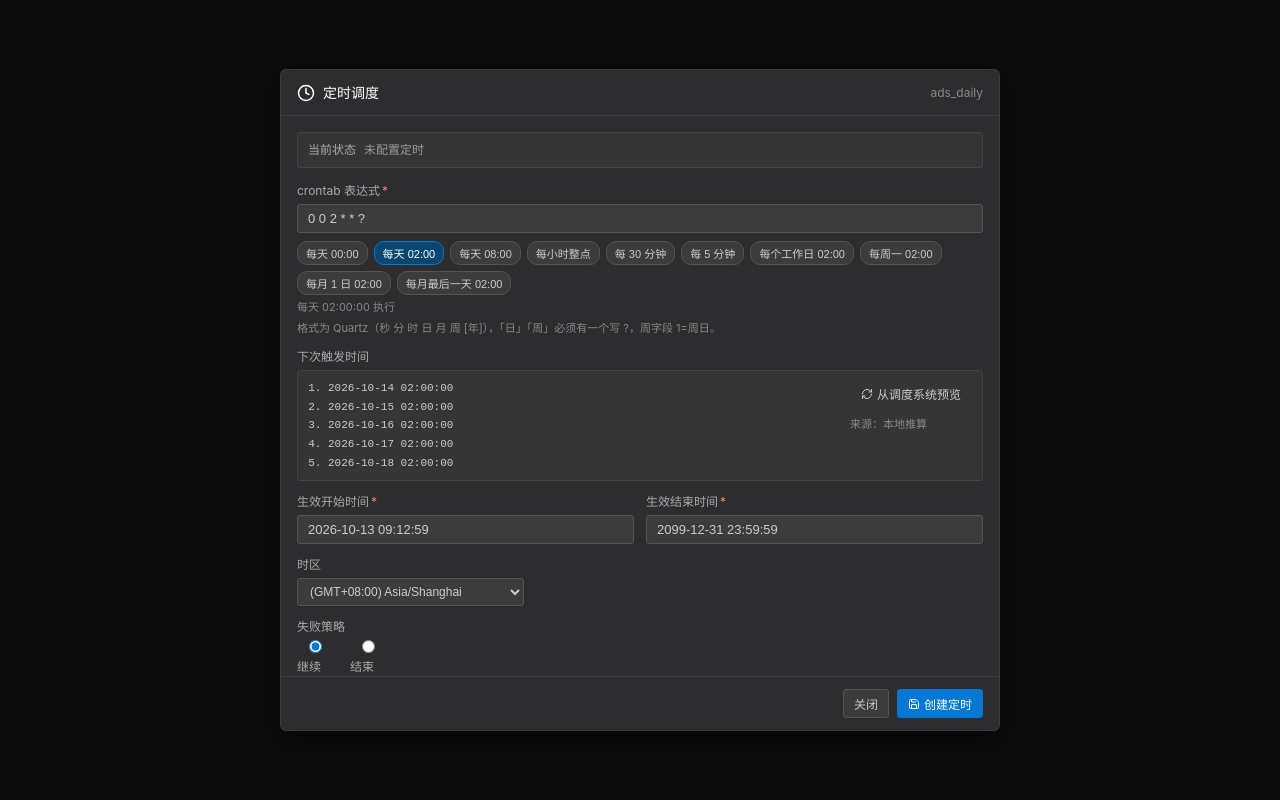
it: crontab 与生效区间的闸门 › 点击预设会替换 crontab 输入
Expected: the text "未配置定时" is shown, [364,141,424,159]
Click the button "每月 1 日 02:00": point(344, 283) [297,271,391,295]
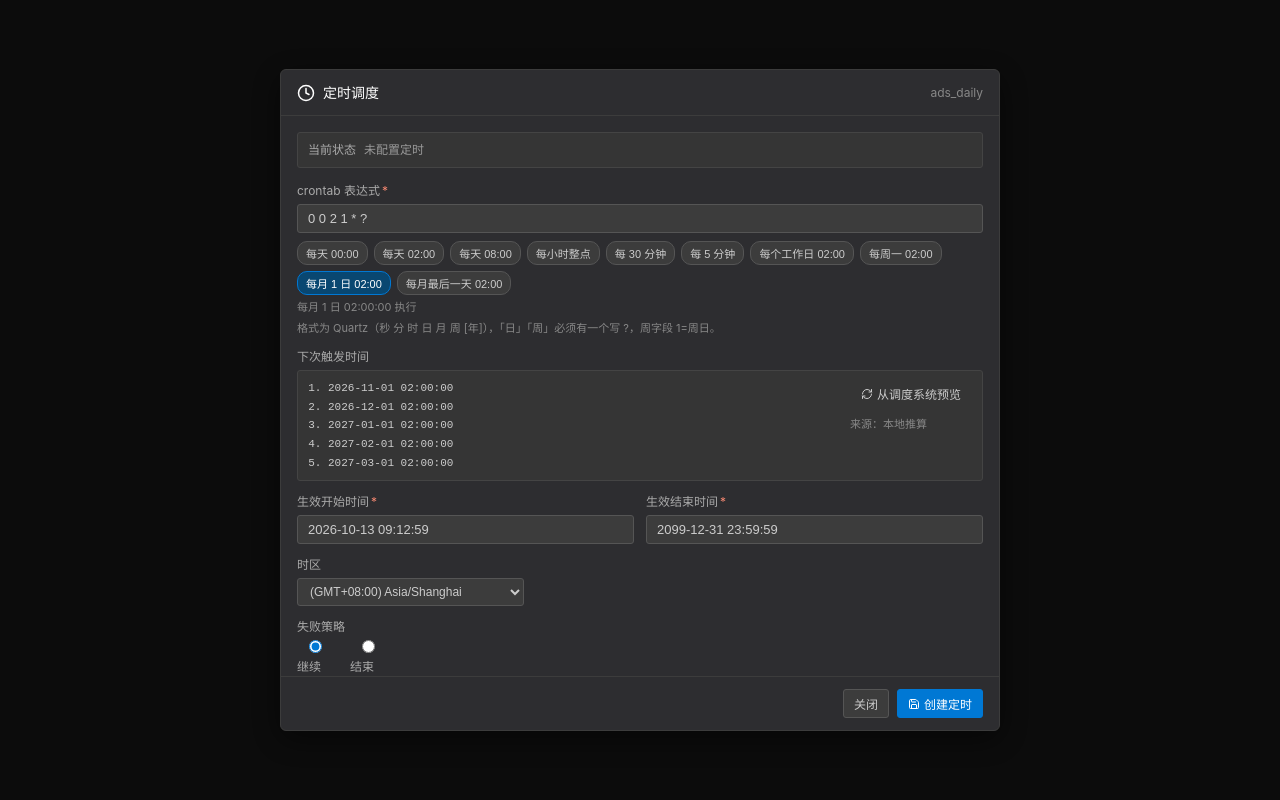
Expected: the field with test id "schedule-crontab" holds "0 0 2 1 * ?", [297,204,983,233]
Expected: the text with test id "cron-desc" reads "每月 1 日 02:00:00 执行", [297,300,417,314]
